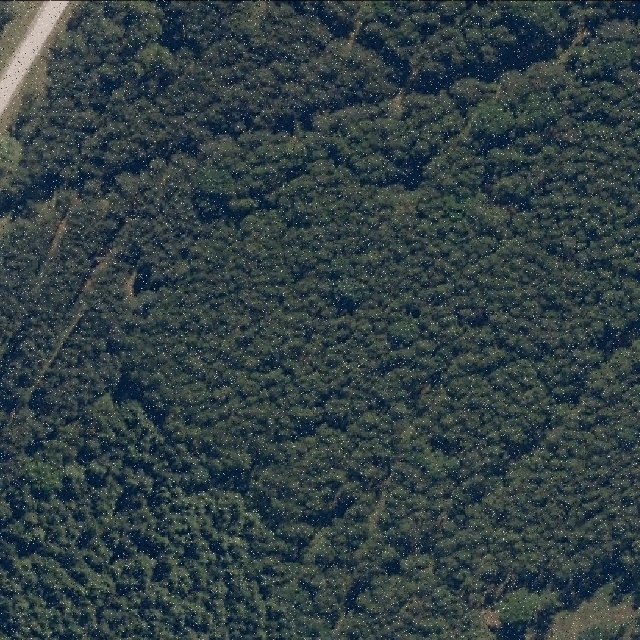vegetation: (0, 0, 640, 640)
